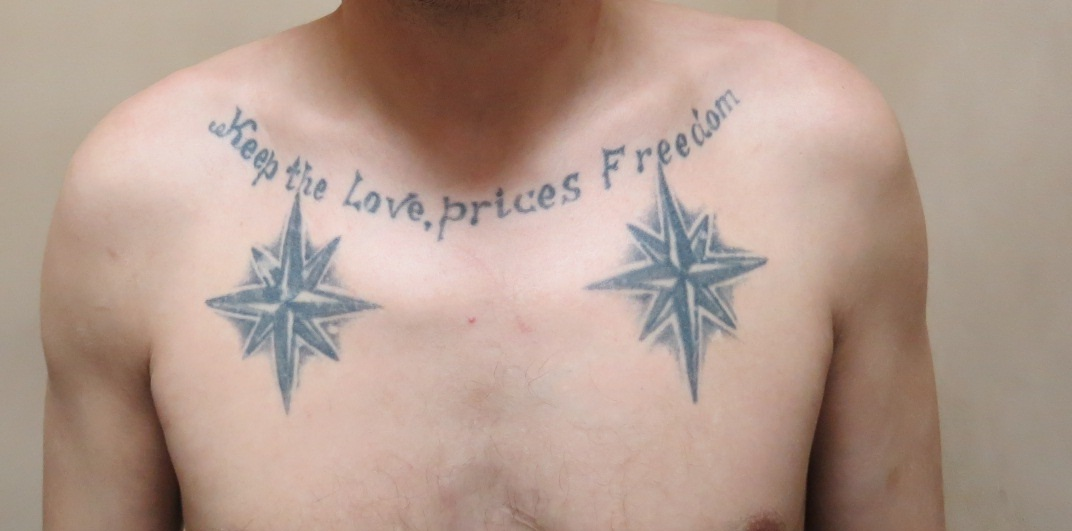tatu4_zvezda: (587, 164, 770, 406), (207, 199, 382, 414)
